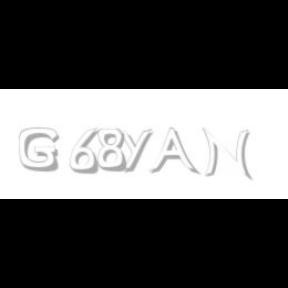6: (70, 128, 98, 176)
8: (98, 128, 126, 172)
A: (149, 128, 197, 176)
G: (19, 128, 59, 172)
N: (202, 128, 250, 180)
y: (116, 128, 156, 172)
